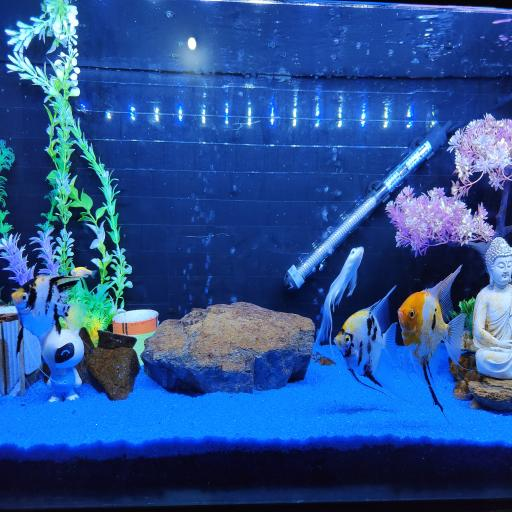Fish: (398, 266, 465, 413), (335, 287, 397, 393), (12, 276, 86, 350), (315, 247, 363, 345), (71, 267, 97, 278)
